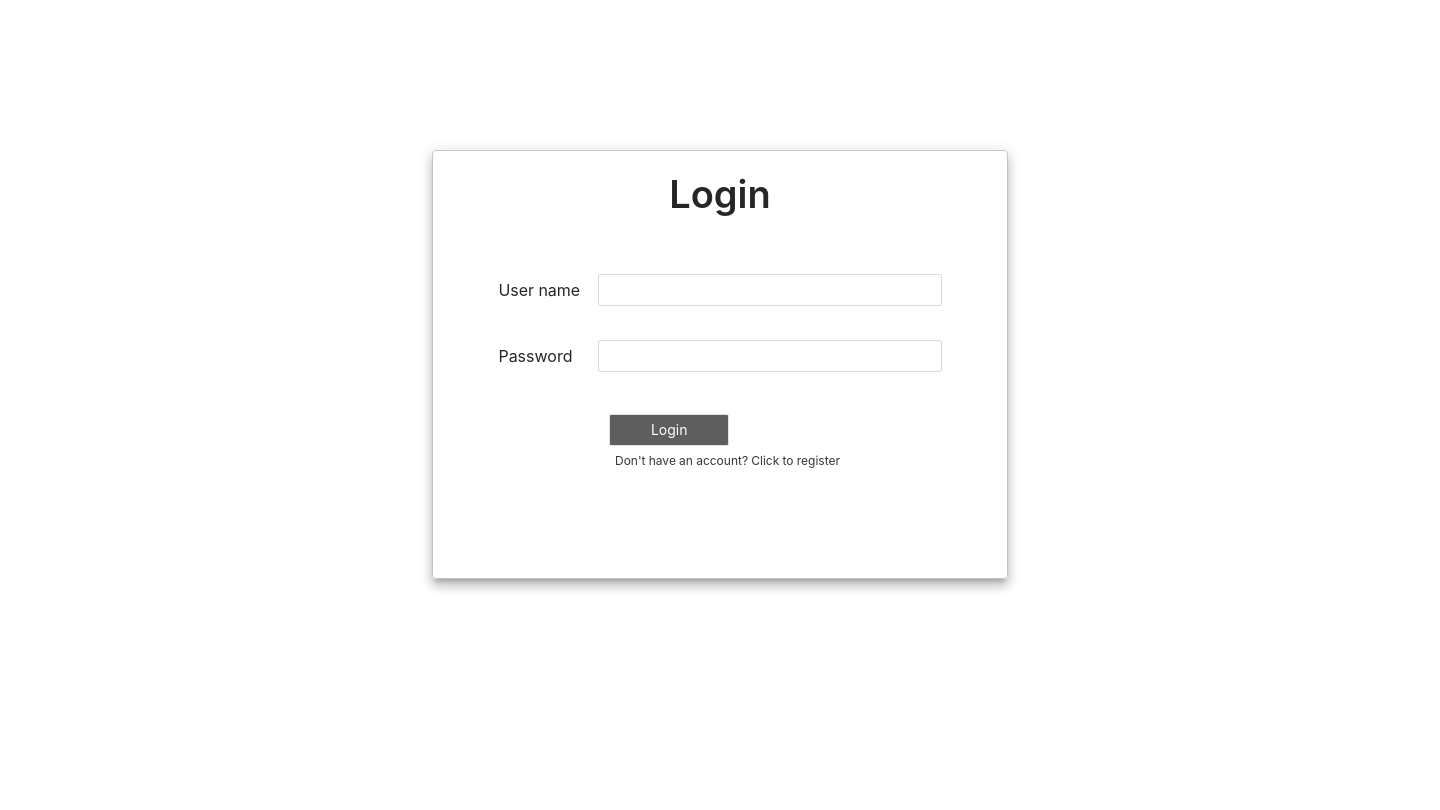
Scenario: rendering of alert › when passwor is invalid › alert should render
The image size is (1440, 810).
Type "ankit" into the field with test id "username" at coordinates (770, 290), box top-left (598, 274), bottom-right (942, 306)
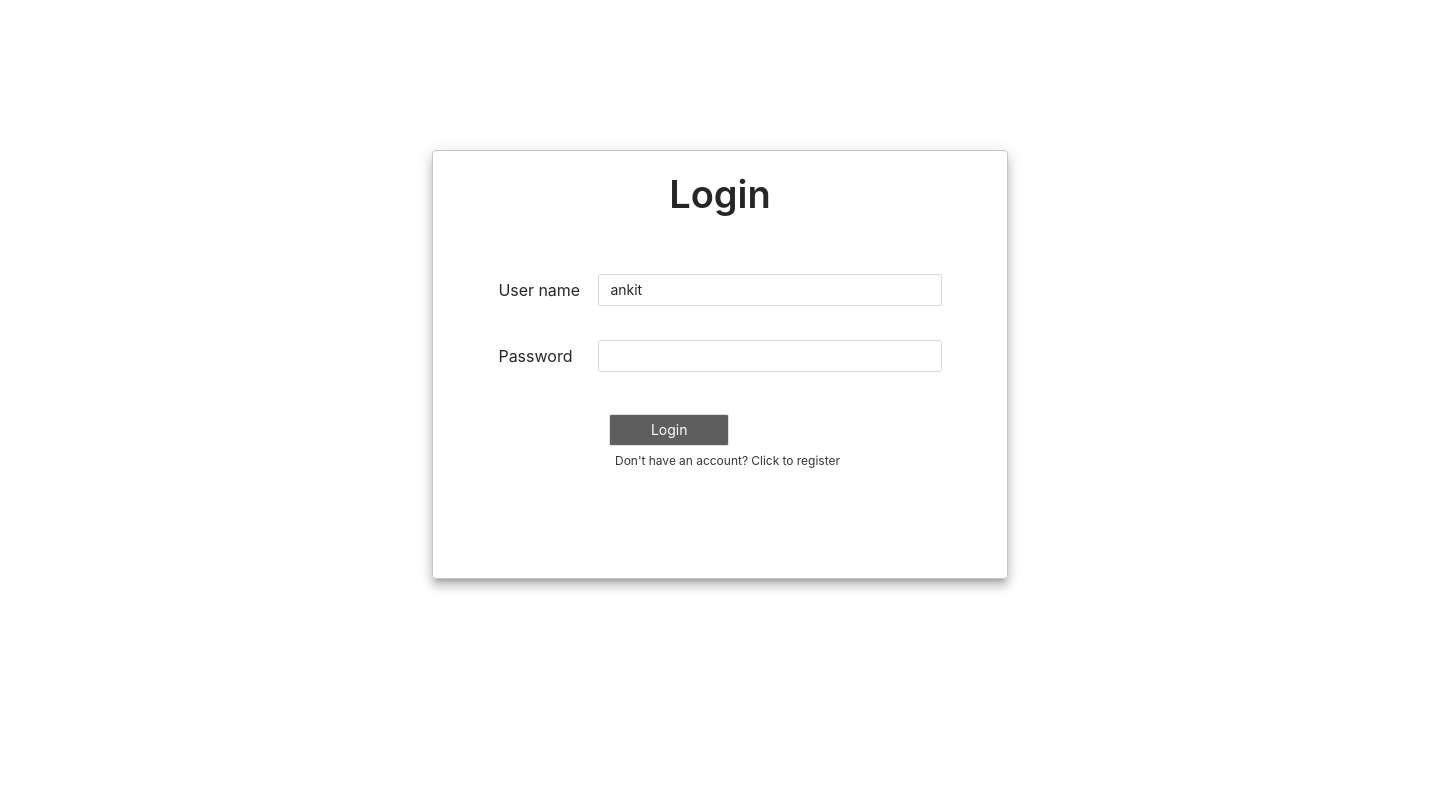
Type "welcome@123" into the password field with test id "password" at coordinates (770, 356), box top-left (598, 340), bottom-right (942, 372)
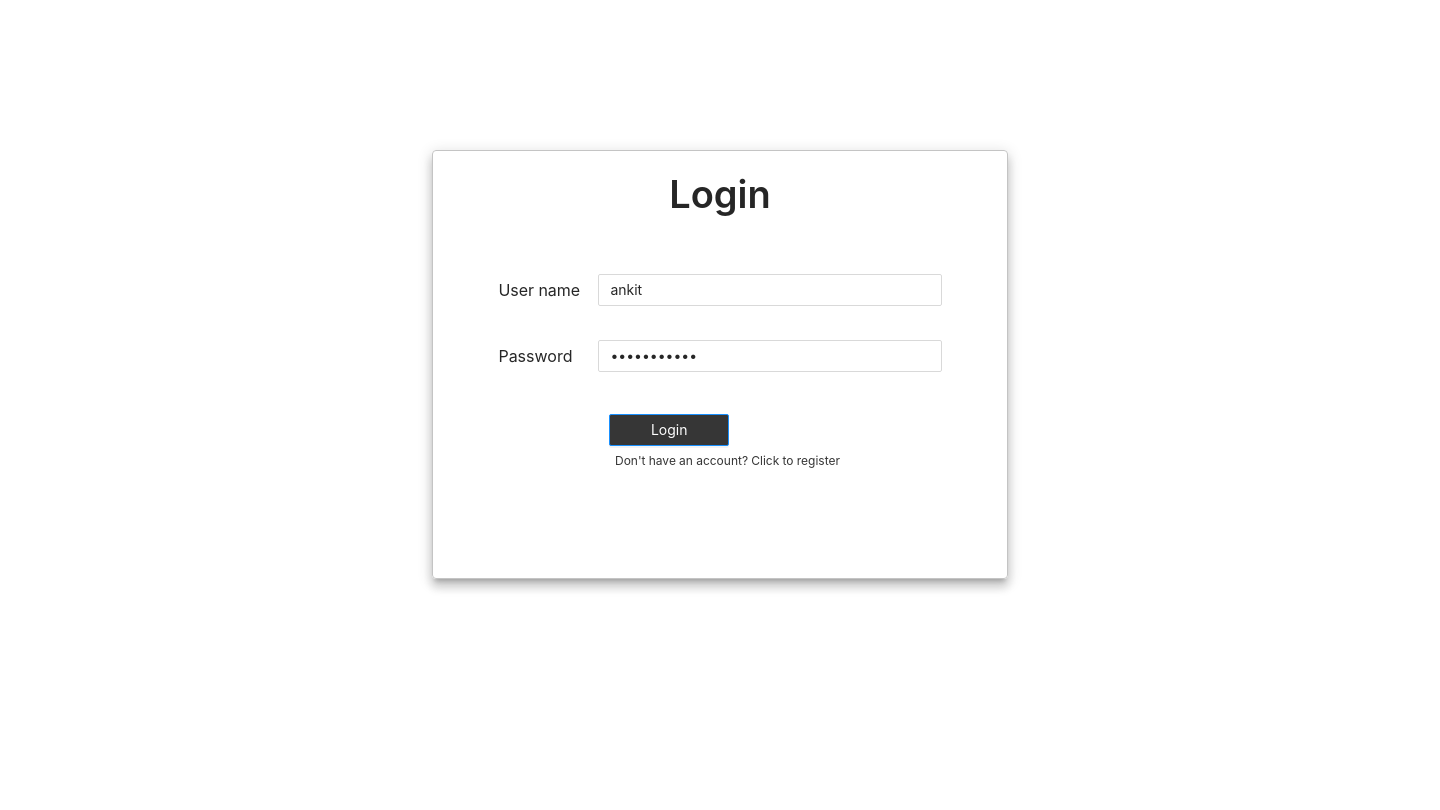
Click the button with test id "login-button" at coordinates (669, 430), box top-left (609, 414), bottom-right (729, 446)
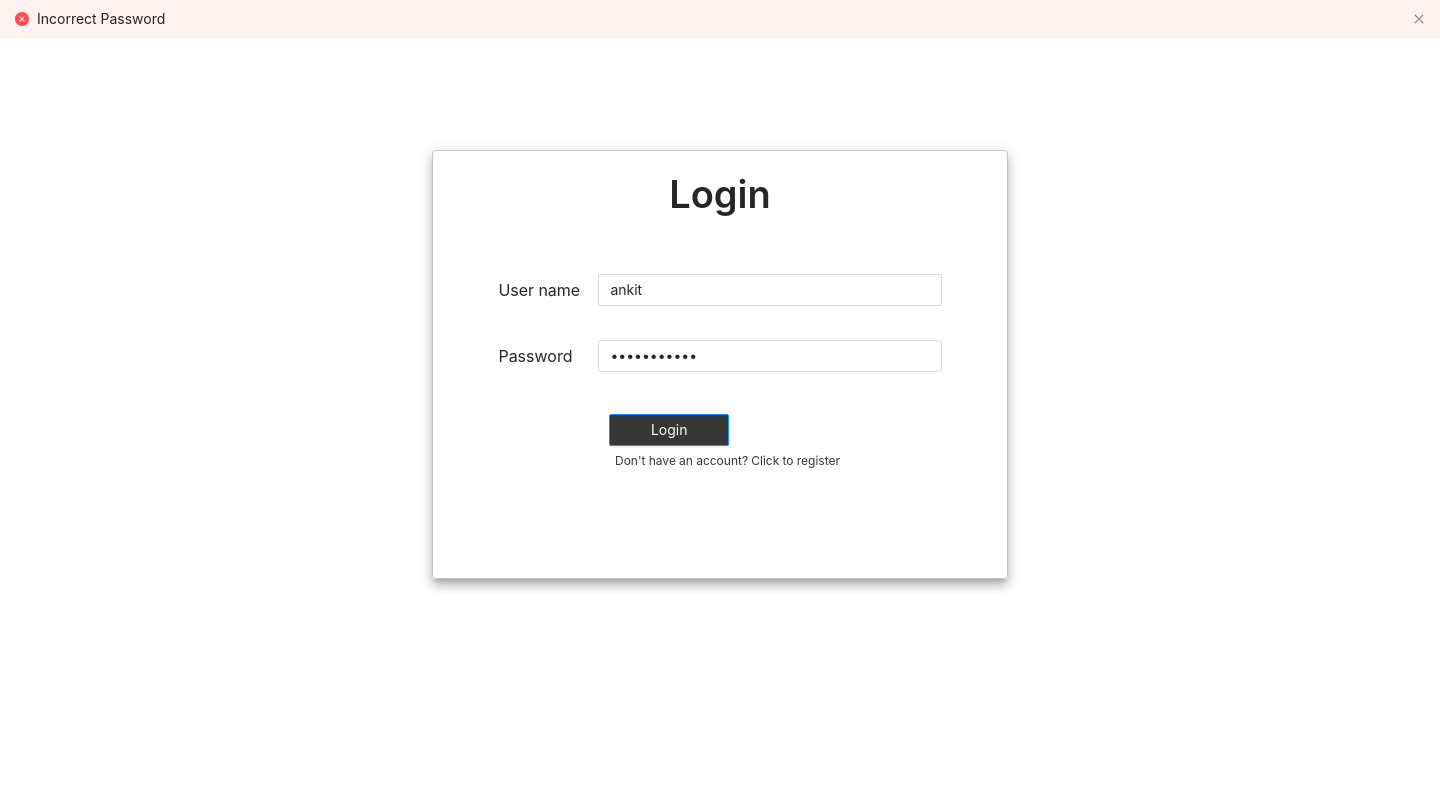
Expected: the message "Incorrect Password" is shown, top-left (0, 0), bottom-right (1439, 38)
